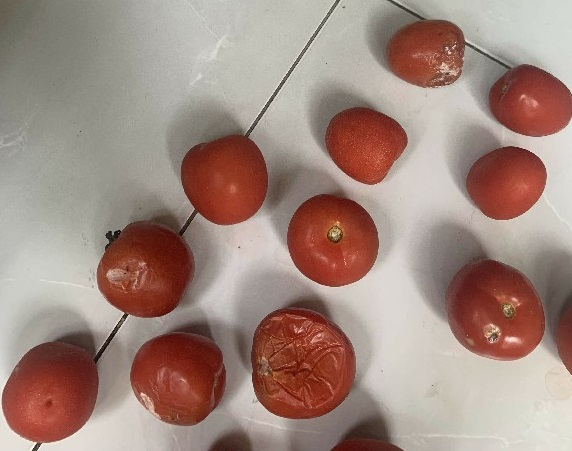NG: (242, 303, 364, 420), (441, 251, 557, 364), (88, 214, 196, 317), (122, 326, 230, 429), (382, 15, 475, 94)
OK: (0, 337, 105, 446), (282, 192, 380, 292), (179, 125, 270, 232), (319, 101, 408, 187), (459, 143, 552, 224), (487, 59, 572, 139)
